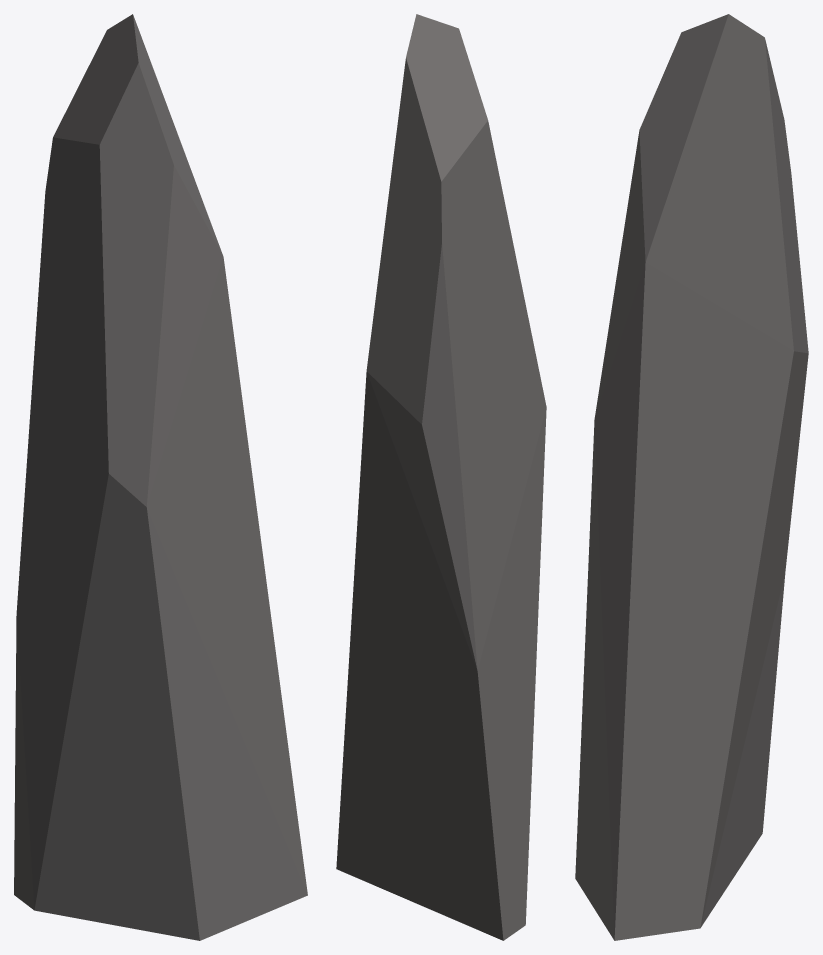
The model's file is Rock_Sharp_m_01 5.fbx.
The picture shows the model from 3 angles, left to right: view 1: azimuth 30°, elevation 25°; view 2: azimuth 150°, elevation 25°; view 3: azimuth 270°, elevation 25°; orthographic projection. The views are drawn at different scales.
Parts seen in each view (by area): view 1: Rock_Sharp_m_01; view 2: Rock_Sharp_m_01; view 3: Rock_Sharp_m_01.
Boxes of the visible parts, bbox=[...] form: Rock_Sharp_m_01: bbox=[14, 14, 307, 940]; Rock_Sharp_m_01: bbox=[336, 14, 546, 940]; Rock_Sharp_m_01: bbox=[575, 14, 808, 940].
Size of the model in its own units: 50.84 by 191 by 46.53.
